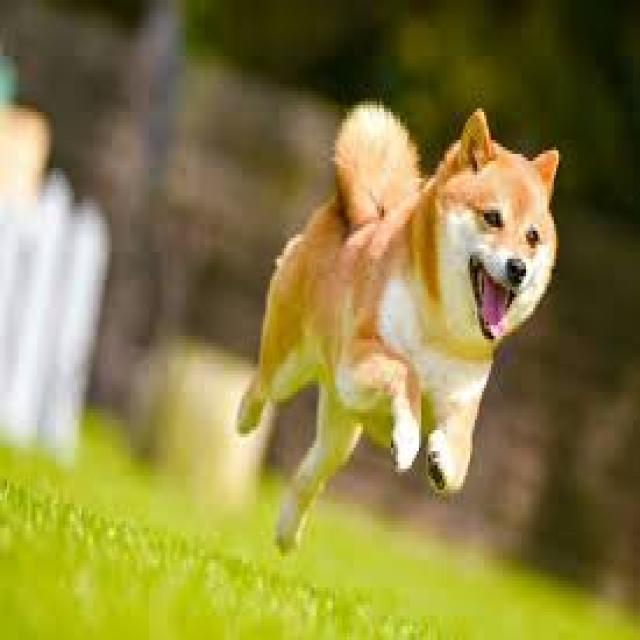dog: (238, 101, 560, 557)
